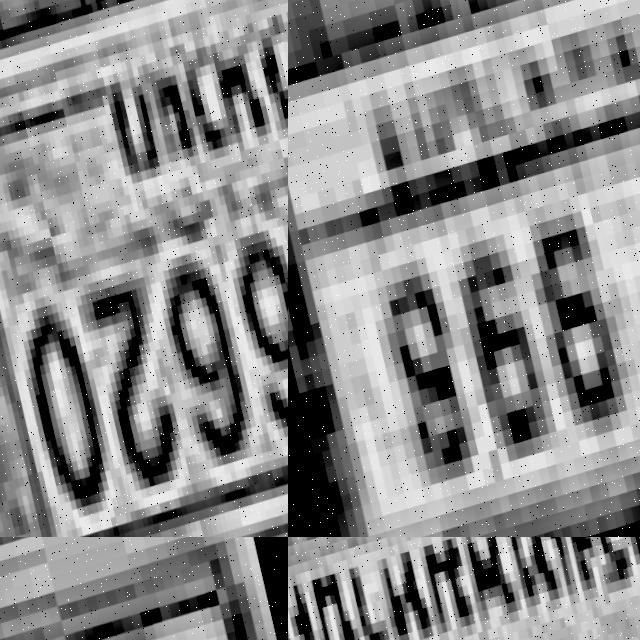license-plate: (288, 0, 640, 537), (0, 0, 288, 537), (288, 537, 640, 640), (0, 552, 288, 640)
